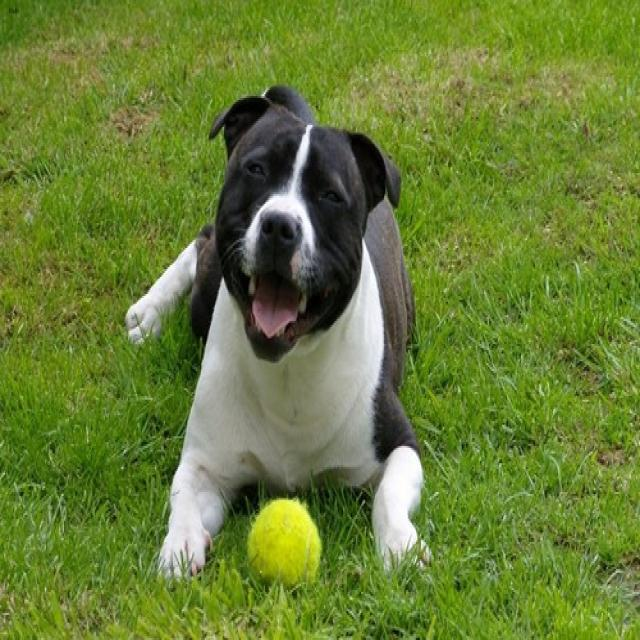dog-staffordshire_bull_terrier: (114, 67, 436, 588)
